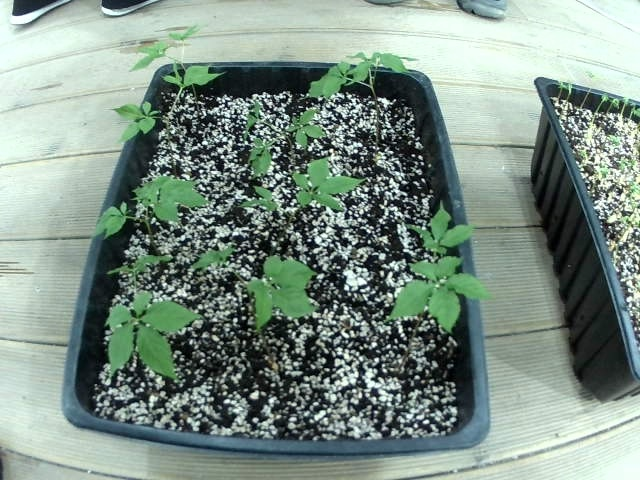수확기: (385, 242, 497, 329), (88, 282, 205, 364), (220, 246, 323, 329), (103, 236, 190, 297), (295, 149, 360, 222), (393, 191, 463, 254), (103, 94, 175, 149), (162, 47, 223, 107), (183, 232, 247, 289), (355, 48, 419, 95), (150, 179, 204, 231), (101, 163, 163, 207), (101, 194, 154, 243), (300, 48, 349, 96), (344, 42, 391, 92), (115, 31, 175, 70), (171, 19, 215, 63), (239, 183, 283, 221), (285, 105, 327, 141), (238, 143, 281, 174), (239, 97, 270, 131)
